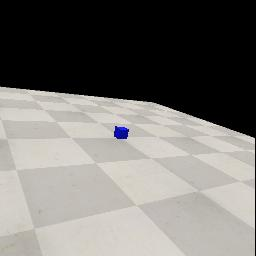box: (114, 126, 129, 139)
